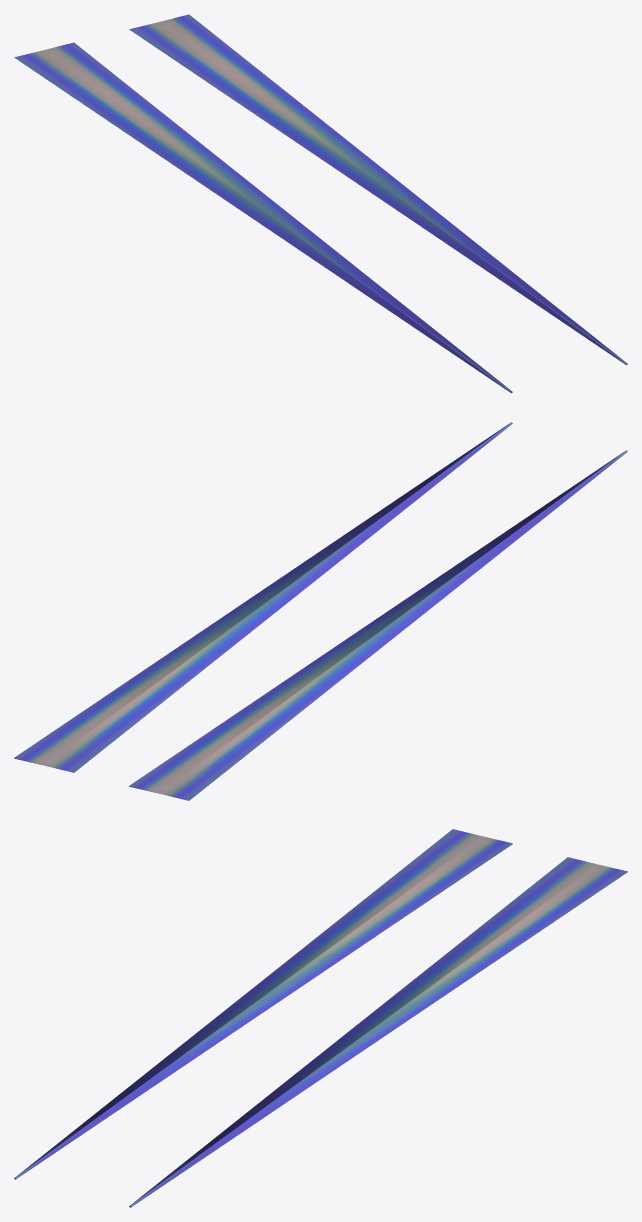
File: booster.obj
3 renders of one model, top to bottom at view 1: azimuth 30°, elevation 25°; view 2: azimuth 150°, elevation 25°; view 3: azimuth 330°, elevation 25°, orthographic.
Visible parts, largest first — view 1: Box002, Box003; view 2: Box003, Box002; view 3: Box003, Box002.
Boxes of the visible parts, x1,y1,x2,y2 form: Box002: (129, 14, 627, 365); Box003: (14, 42, 512, 393); Box003: (129, 450, 627, 800); Box002: (14, 422, 512, 772); Box003: (14, 829, 512, 1179); Box002: (129, 857, 627, 1207).
Bounding box in the file's own units: 0.9136 × 0.0126 × 4.23.
Materials: 1 (1 with a texture image).
